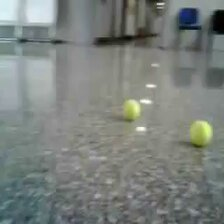tennis: (190, 120, 213, 147), (123, 99, 140, 119)
